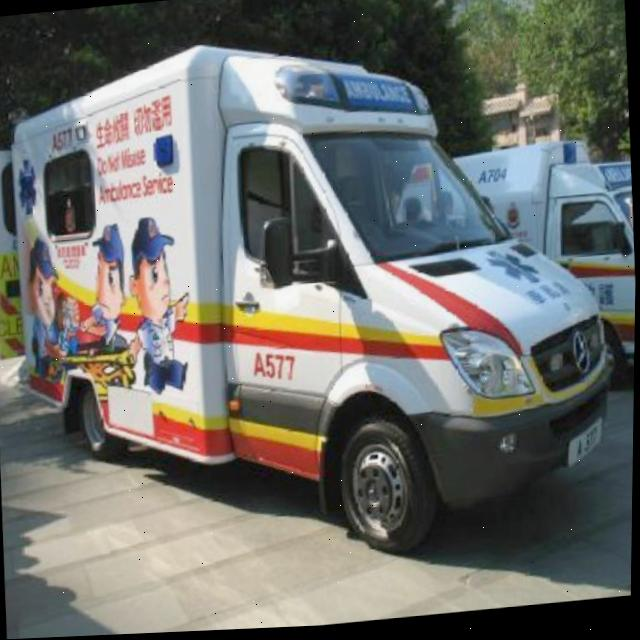emergency: (0, 10, 633, 593)
